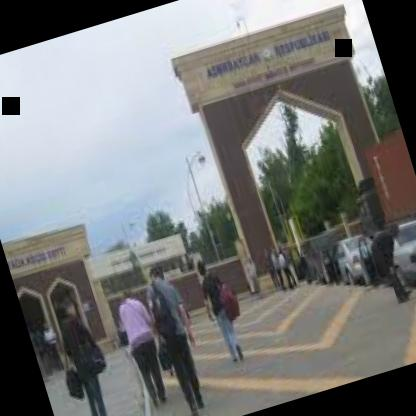car: (311, 223, 387, 301)
